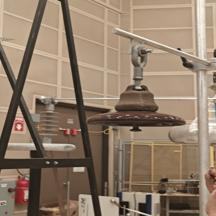insulator: (78, 78, 193, 143)
